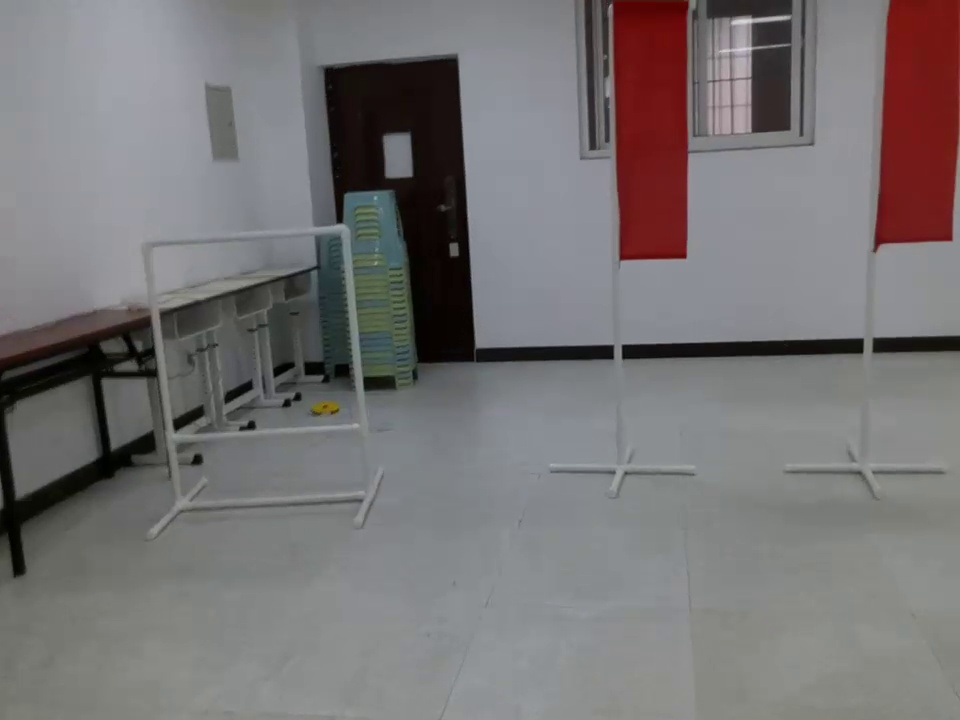qi: (609, 2, 693, 263), (885, 5, 956, 256)
